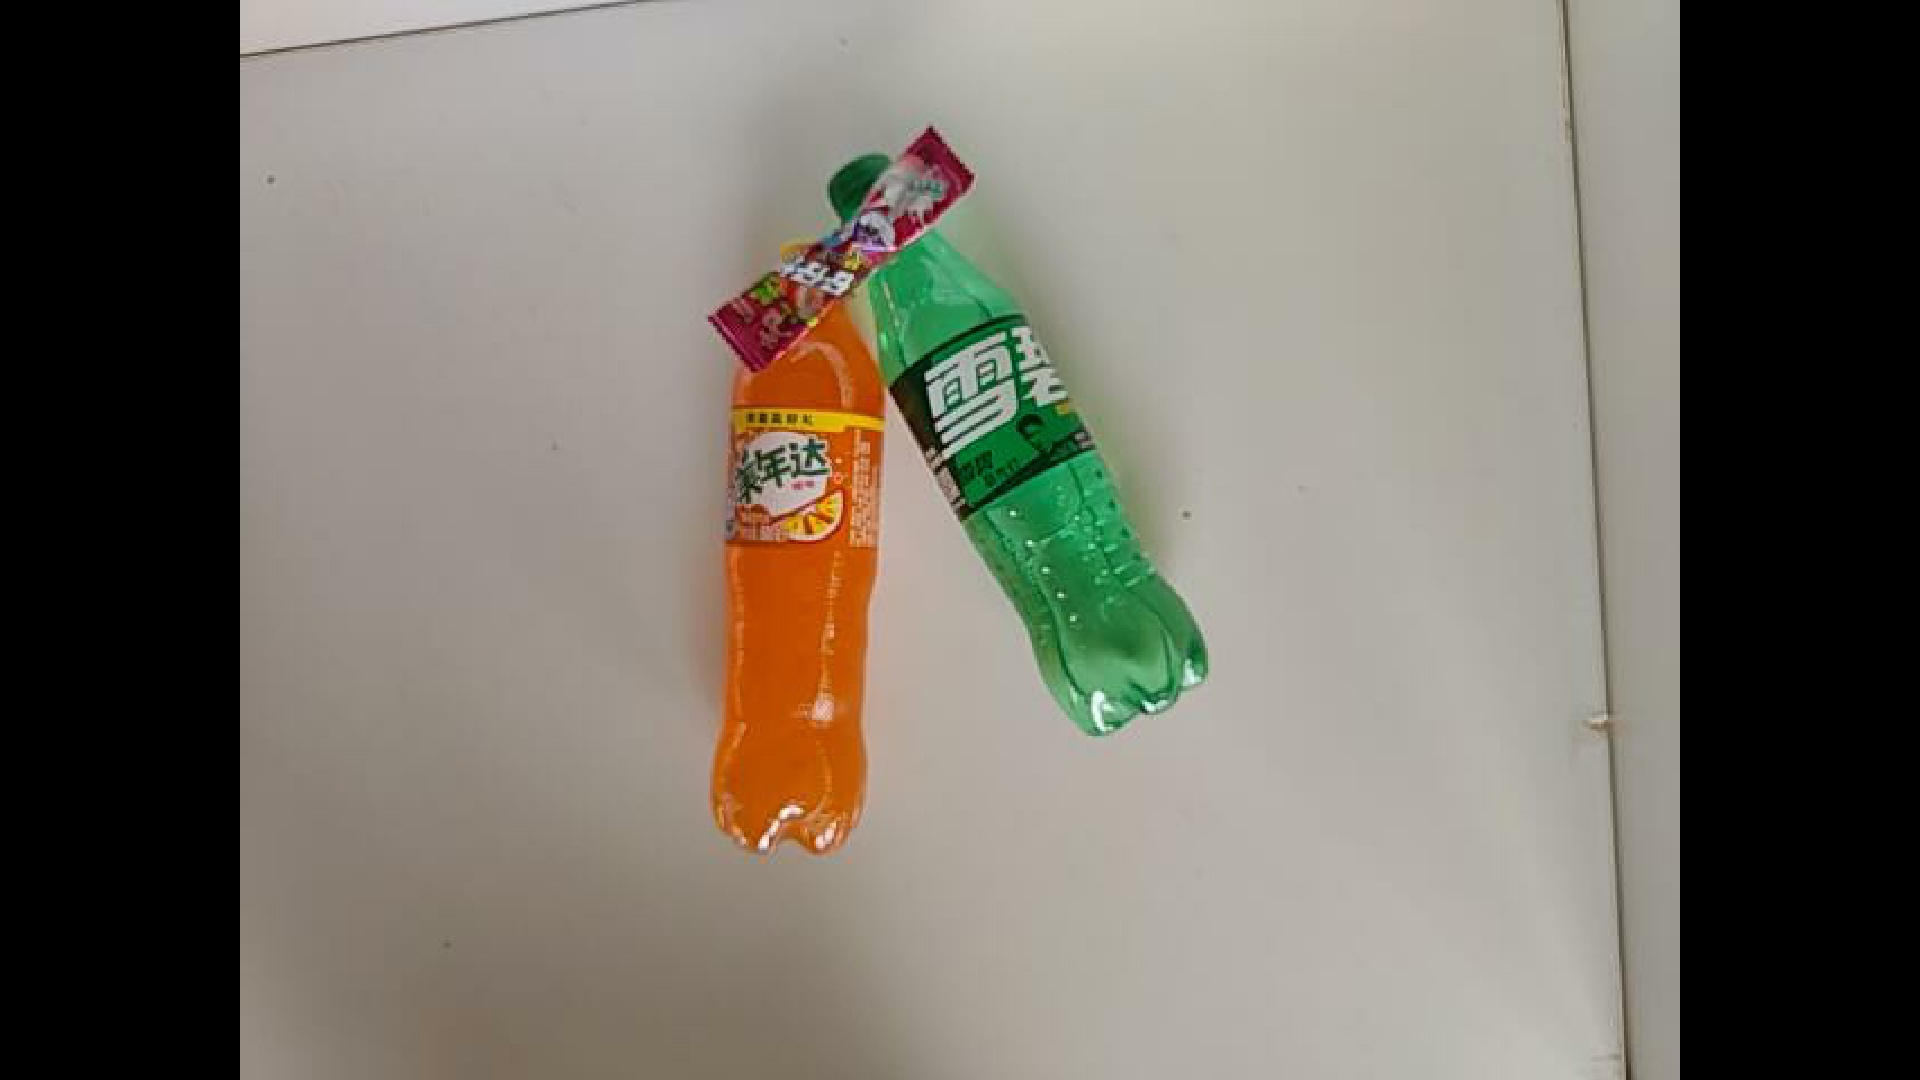fenta: (675, 202, 901, 858)
sprite: (764, 161, 1493, 760)
sugar: (699, 204, 1034, 381)
